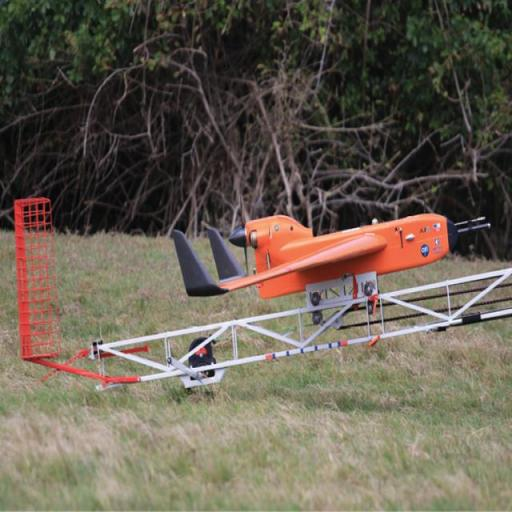uav: (166, 192, 499, 315)
